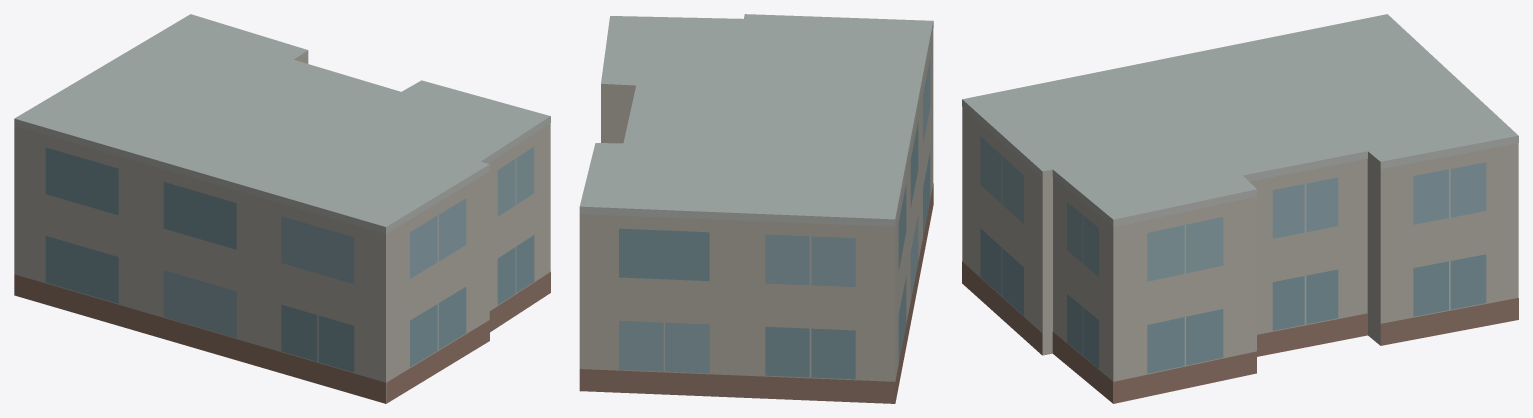
Rendered from survey-upis-32670005.glb.
3 views of the same model, side by side, from view 1: azimuth 30°, elevation 25°; view 2: azimuth 150°, elevation 25°; view 3: azimuth 270°, elevation 25° (orthographic). The views are drawn at different scales.
Parts seen in each view (by area): view 1: survey-upis-32670005.tmp; view 2: survey-upis-32670005.tmp; view 3: survey-upis-32670005.tmp.
Part boxes in pixels (x1,y1,x2,y2): survey-upis-32670005.tmp: [14, 14, 550, 403]; survey-upis-32670005.tmp: [579, 14, 933, 403]; survey-upis-32670005.tmp: [962, 14, 1518, 403].
Bounding box in the file's own units: 14.63 × 6.1 × 16.72.
